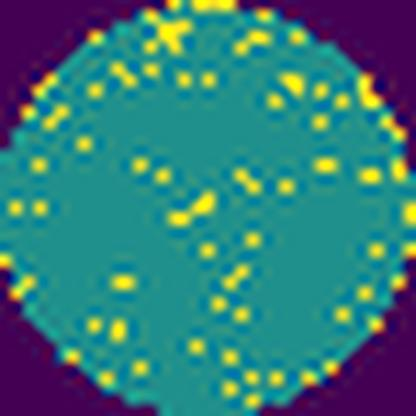Loc: (145, 18, 195, 58)
